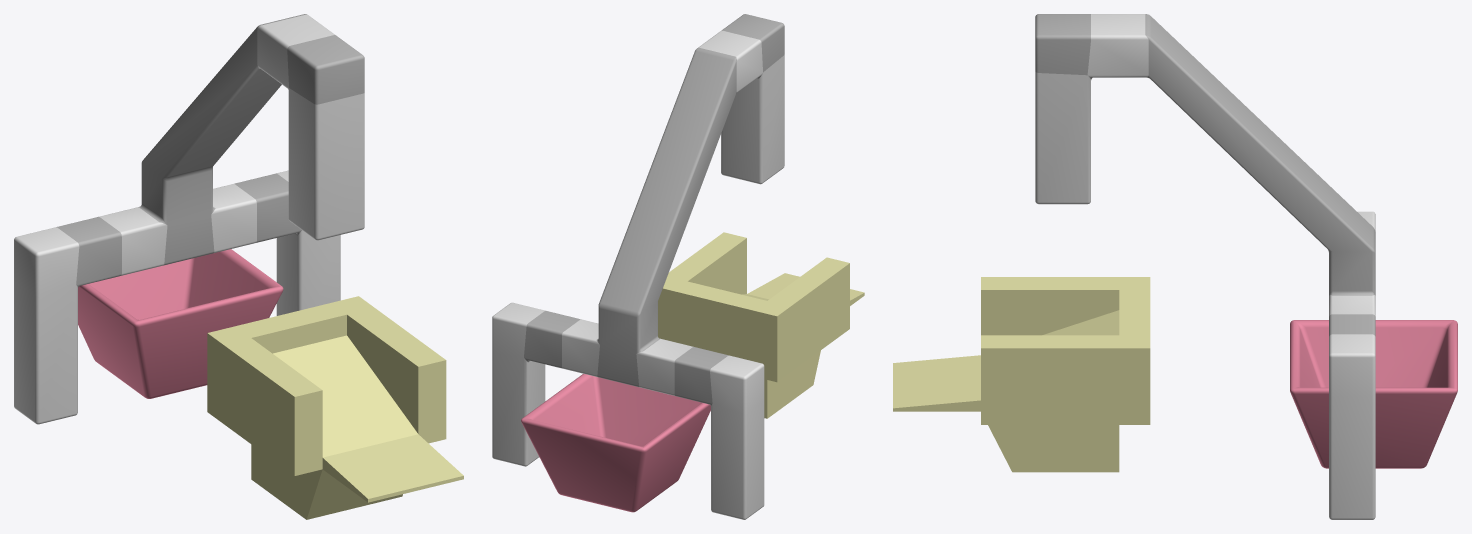
The model's file is machine11.fbx.
3 renders of one model, left to right at view 1: azimuth 30°, elevation 25°; view 2: azimuth 150°, elevation 25°; view 3: azimuth 270°, elevation 25°, orthographic. The views are drawn at different scales.
Parts seen in each view (by area): view 1: Cube.006; view 2: Cube.006; view 3: Cube.006.
Boxes of the visible parts, left/top/right/bottom form: Cube.006: left=14, top=14, right=463, bottom=519; Cube.006: left=492, top=14, right=864, bottom=519; Cube.006: left=893, top=14, right=1457, bottom=519.
Size of the model in its own units: 103 by 142 by 171.
